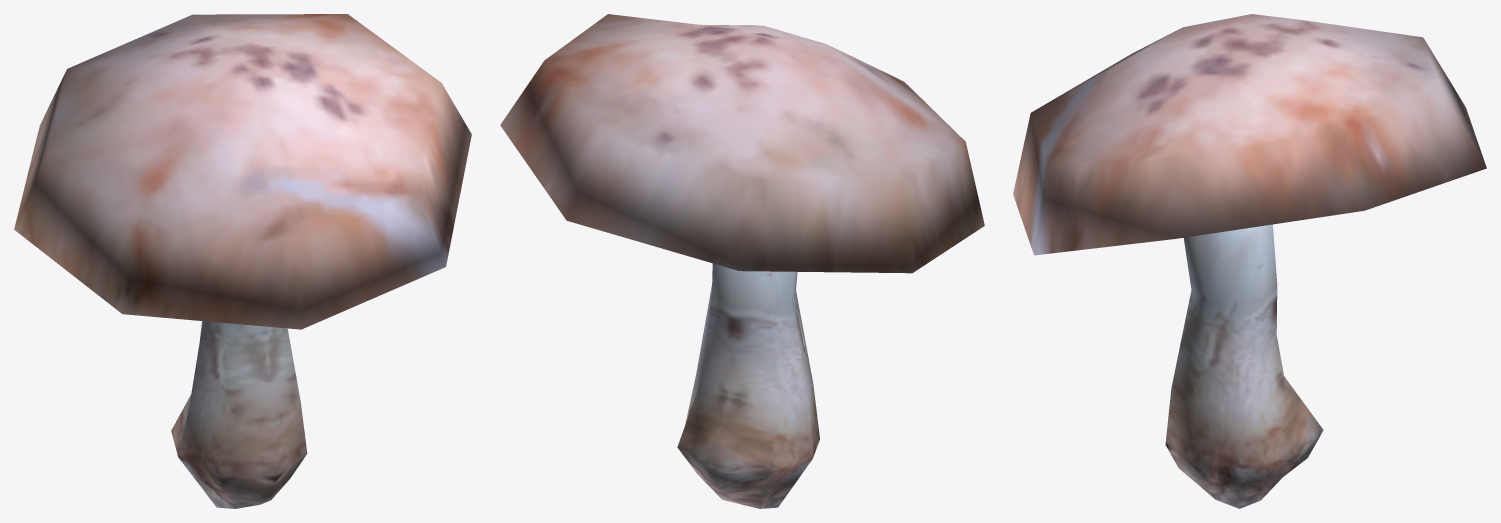
File: SM_TOADSTOOL_04.FBX
The picture shows the model from 3 angles, left to right: view 1: azimuth 30°, elevation 25°; view 2: azimuth 150°, elevation 25°; view 3: azimuth 270°, elevation 25°; orthographic projection. The views are drawn at different scales.
Parts seen in each view (by area): view 1: SM_TOADSTOOL_04; view 2: SM_TOADSTOOL_04; view 3: SM_TOADSTOOL_04.
Part boxes in pixels (<box>): SM_TOADSTOOL_04: <box>14,14,471,508</box>; SM_TOADSTOOL_04: <box>500,14,984,508</box>; SM_TOADSTOOL_04: <box>1013,14,1486,508</box>.
Size of the model in its own units: 7.53 by 7.48 by 8.06.
